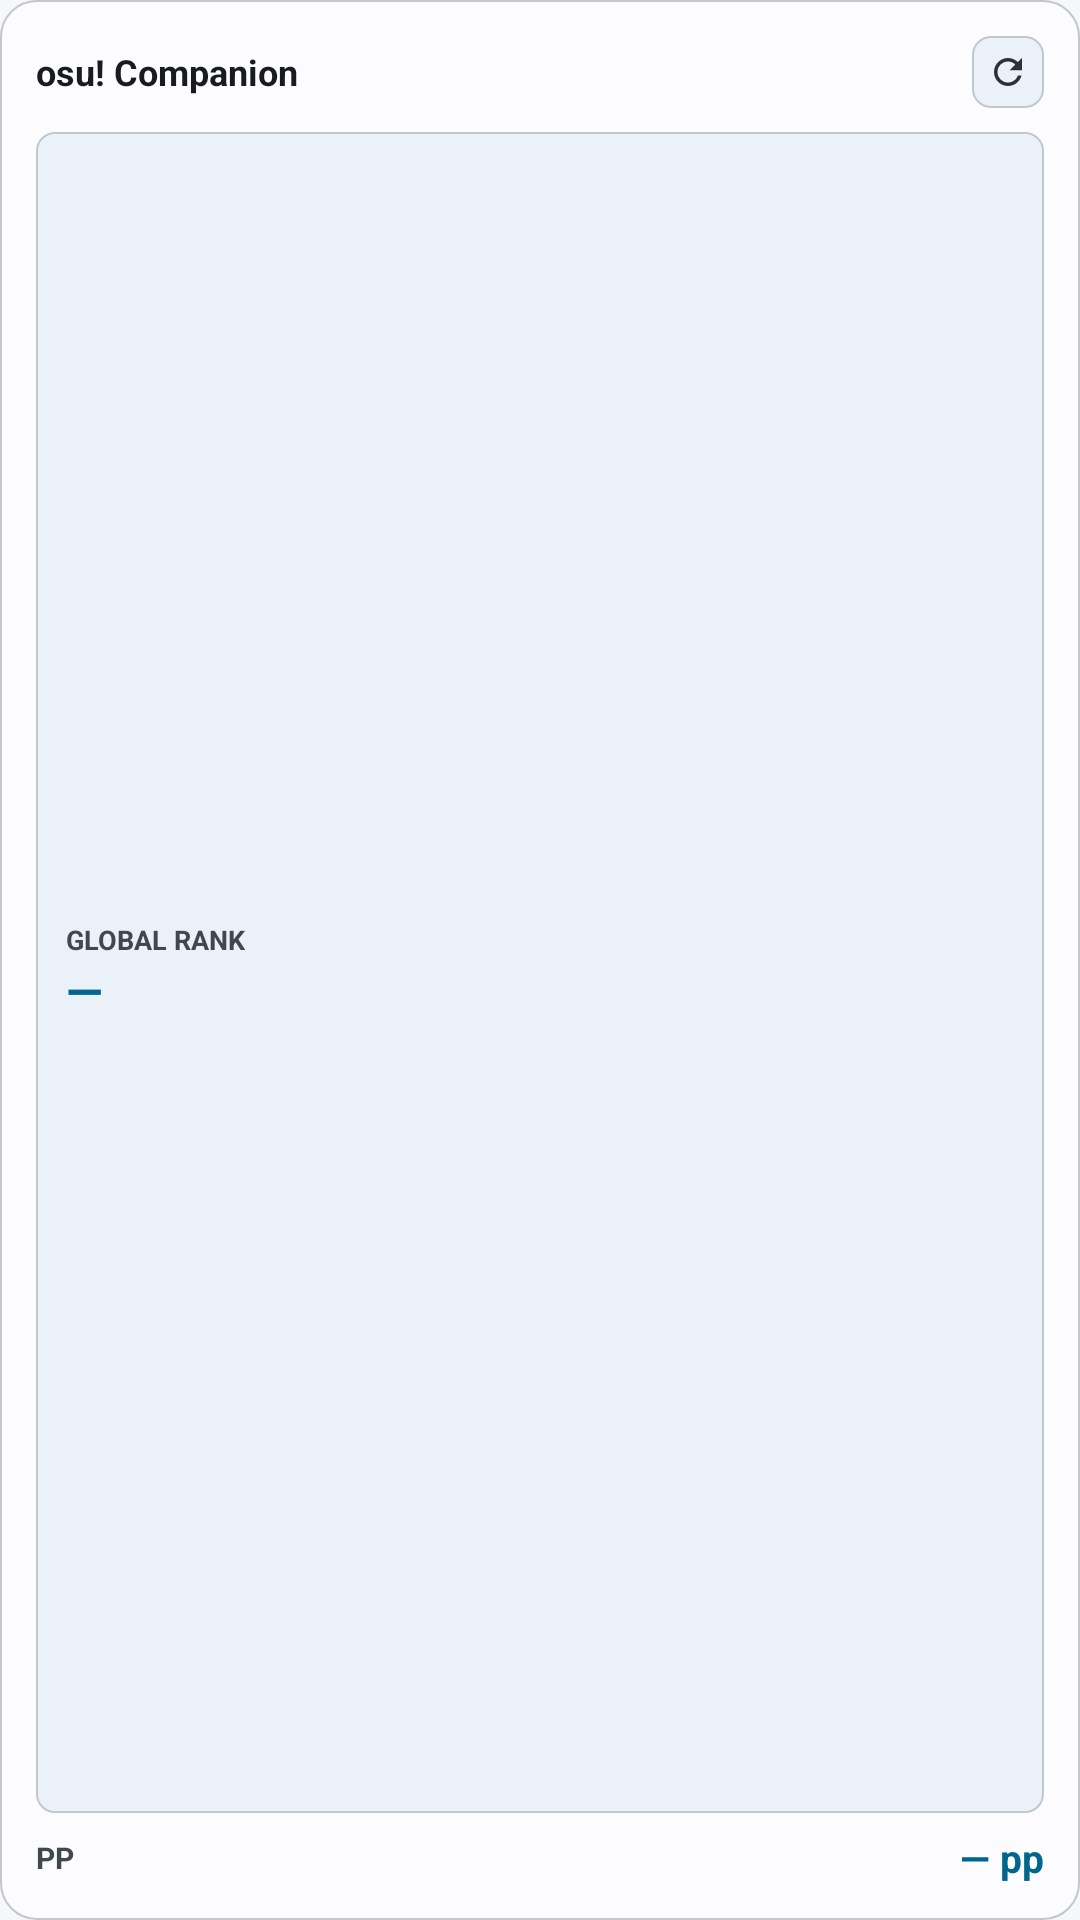

Named icons in this screenshot (1080 x 1920) and their bounding boxes, box(x1, y1, x2, y2):
Refresh stats: box(972, 36, 1044, 108)
